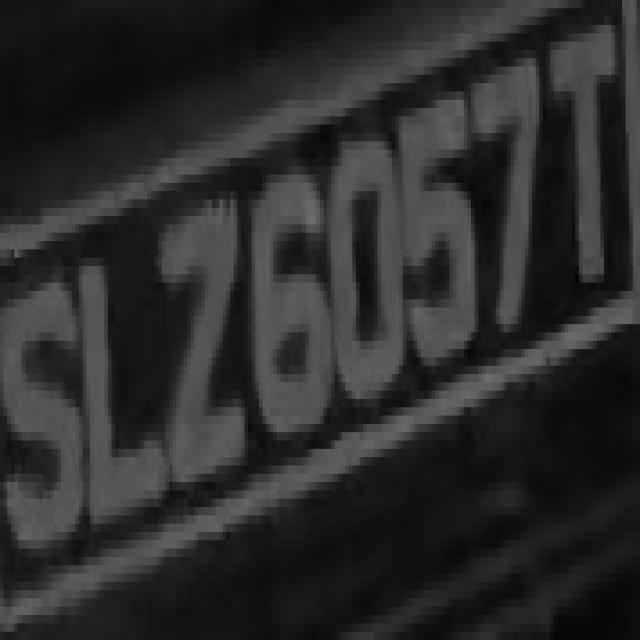0: (316, 91, 403, 432)
5: (396, 75, 474, 407)
6: (252, 150, 334, 473)
7: (460, 67, 540, 366)
L: (83, 175, 165, 540)
S: (11, 250, 86, 574)
T: (539, 16, 626, 332)
Z: (162, 167, 255, 516)
